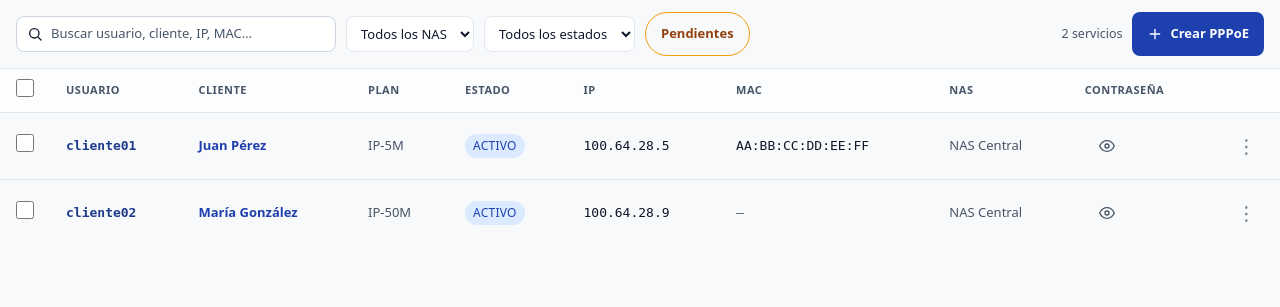
Test: PppoeManagementTab bulk — 5.5: toolbar contextual › muestra toolbar con "N seleccionados" cuando hay selección
Click the checkbox named "Seleccionar cliente01": (25,143) [16, 134, 34, 152]
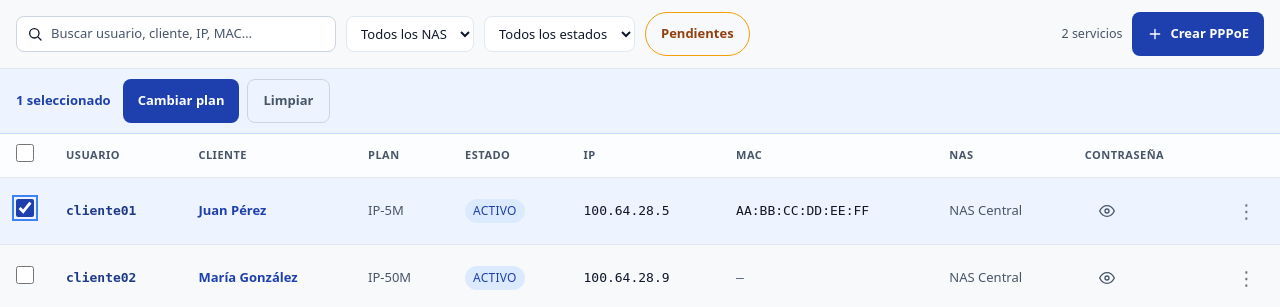
Check: the text "1 seleccionado" is shown, box [16, 91, 111, 111]
